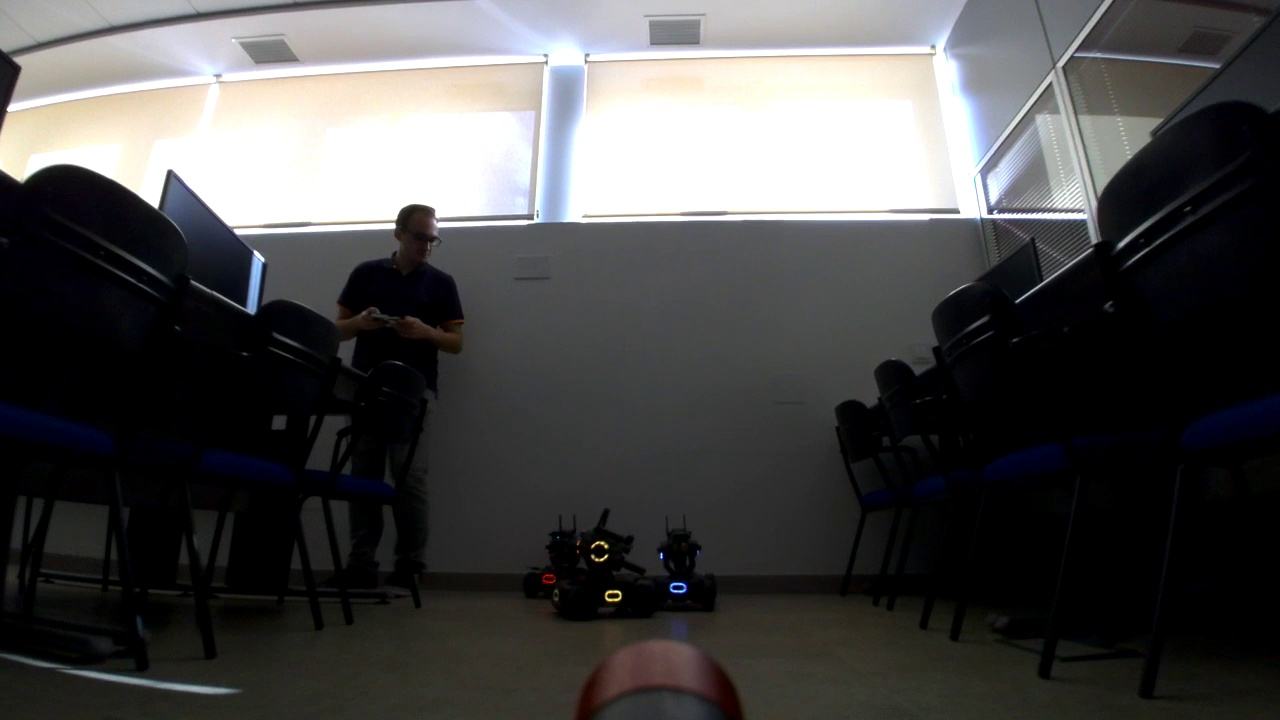robot: (553, 507, 648, 618), (644, 513, 717, 611), (521, 512, 588, 599)
